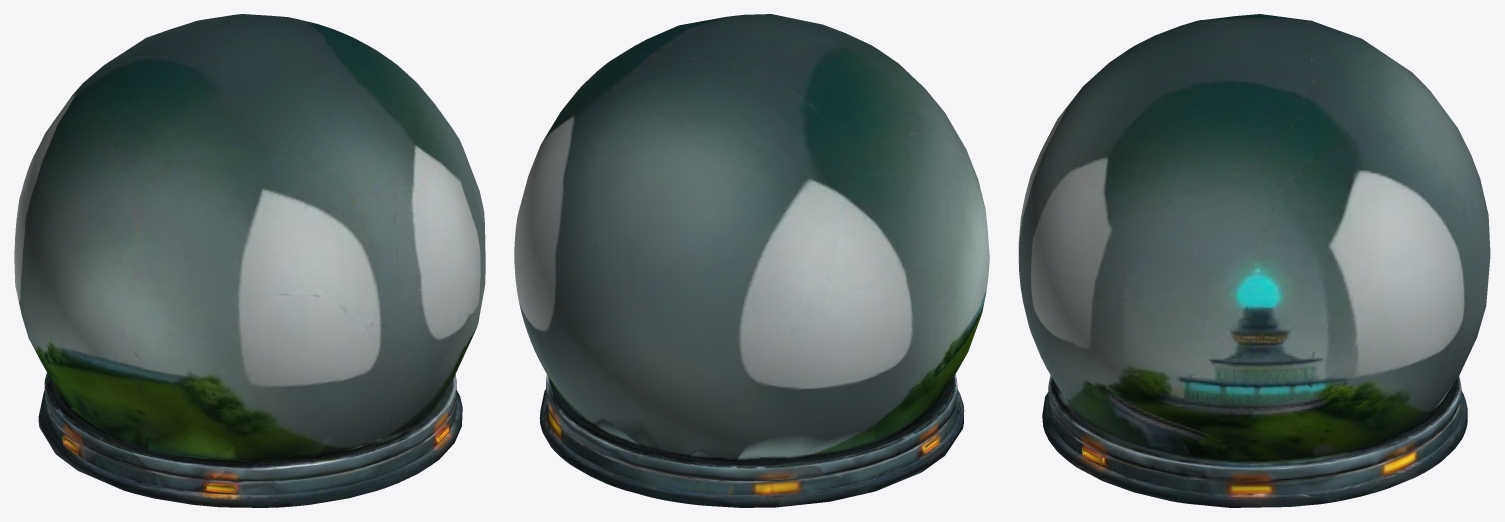
The model's file is hero-sky-dome-lod1.glb.
3 renders of one model, left to right at view 1: azimuth 30°, elevation 25°; view 2: azimuth 150°, elevation 25°; view 3: azimuth 270°, elevation 25°, orthographic.
Visible parts, largest first — view 1: node_0; view 2: node_0; view 3: node_0.
Part boxes in pixels (<box>): node_0: <box>14,14,485,507</box>; node_0: <box>514,14,989,507</box>; node_0: <box>1018,14,1490,507</box>.
Size of the model in its own units: 0.9476 by 0.8451 by 0.9462.
1 material, 1 textured.
